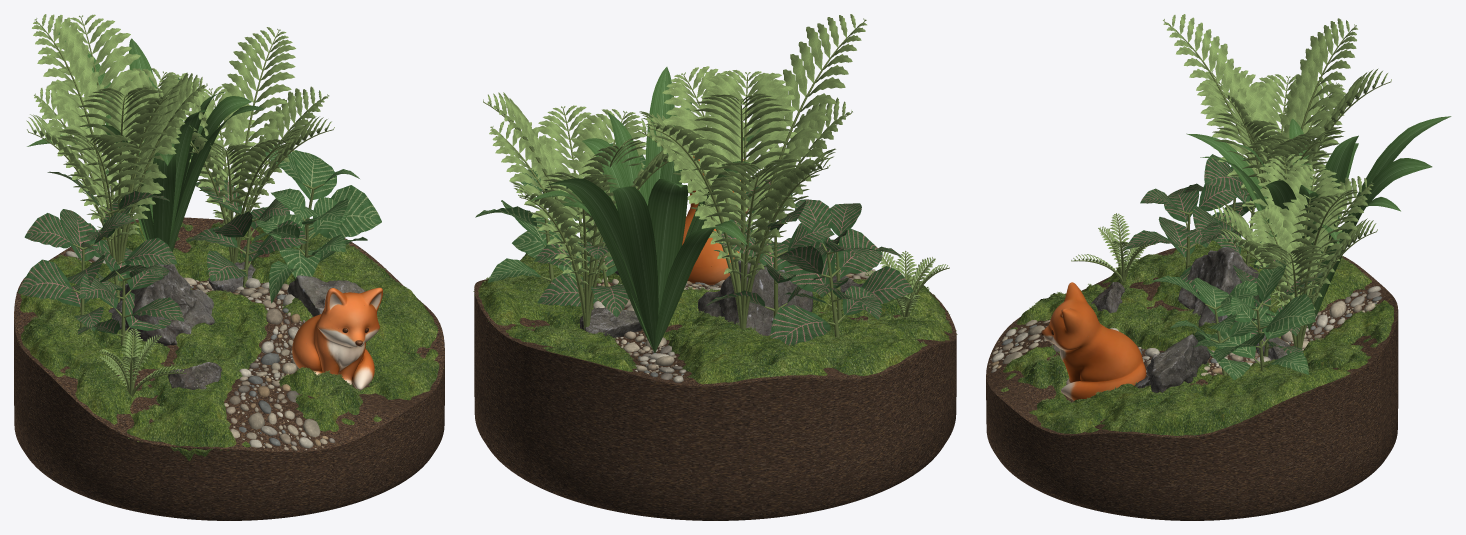
The model's file is woodland.glb.
The picture shows the model from 3 angles, left to right: view 1: azimuth 30°, elevation 25°; view 2: azimuth 150°, elevation 25°; view 3: azimuth 270°, elevation 25°; orthographic projection. The views are drawn at different scales.
Visible parts, largest first — view 1: Earth · planted bank, Cushion moss · continuous bank, Original foreground · leaves, Fern pinnae 3, Fittonia · ivory, Fern pinnae 4, Fern pinnae 5, River gravel · worn limestone and chert, Fox · Tripo terracotta, Fern pinnae 1, Living moss · rosettes, Original fern · ribs (+13 smaller); view 2: Earth · planted bank, Cushion moss · continuous bank, Fern pinnae 5, Fern pinnae 1, Original foreground · leaves, Canopy 1, Fern pinnae 3, Original fern · ribs, Fern pinnae 4, Living moss · rosettes, Canopy 2, Woodland outcrop · 04 (+10 smaller); view 3: Earth · planted bank, Cushion moss · continuous bank, Fern pinnae 1, Fern pinnae 5, Fittonia · ivory, Fox · Tripo terracotta, Fern pinnae 3, Original foreground · leaves, Living moss · rosettes, Fern pinnae 4, Canopy 1, River gravel · worn limestone and chert (+11 smaller).
Boxes of the visible parts, box(x1,y1,x2,y2) form: Earth · planted bank: box(14, 217, 444, 520); Cushion moss · continuous bank: box(16, 222, 443, 460); Original foreground · leaves: box(18, 171, 183, 334); Fern pinnae 3: box(99, 27, 295, 385); Fittonia · ivory: box(252, 145, 381, 303); Fern pinnae 4: box(32, 14, 140, 380); Fern pinnae 5: box(26, 68, 334, 240); River gravel · worn limestone and chert: box(65, 251, 334, 450); Fox · Tripo terracotta: box(292, 287, 382, 390); Fern pinnae 1: box(53, 73, 302, 236); Living moss · rosettes: box(22, 221, 435, 439); Original fern · ribs: box(28, 18, 333, 397); Earth · planted bank: box(474, 273, 956, 520); Cushion moss · continuous bank: box(473, 253, 957, 386); Fern pinnae 5: box(533, 14, 866, 278); Fern pinnae 1: box(539, 70, 852, 276); Original foreground · leaves: box(706, 179, 913, 345); Canopy 1: box(545, 123, 768, 352); Fern pinnae 3: box(483, 66, 921, 312); Original fern · ribs: box(483, 21, 949, 330); Fern pinnae 4: box(639, 93, 949, 295); Living moss · rosettes: box(481, 238, 949, 380); Canopy 2: box(530, 67, 747, 352); Woodland outcrop · 04: box(698, 260, 812, 335); Earth · planted bank: box(986, 248, 1398, 520); Cushion moss · continuous bank: box(1000, 240, 1393, 438); Fern pinnae 1: box(1197, 67, 1373, 309); Fern pinnae 5: box(1163, 14, 1348, 311); Fittonia · ivory: box(1152, 260, 1315, 380); Fox · Tripo terracotta: box(1041, 282, 1146, 400); Fern pinnae 3: box(1124, 113, 1377, 306); Original foreground · leaves: box(1125, 134, 1278, 292); Living moss · rosettes: box(1004, 243, 1389, 429); Fern pinnae 4: box(1110, 18, 1391, 263); Canopy 1: box(1186, 116, 1451, 329); River gravel · worn limestone and chert: box(988, 286, 1382, 375).
Bounding box in the file's own units: 2.64 × 2.56 × 2.98.
22 materials, 18 textured.
